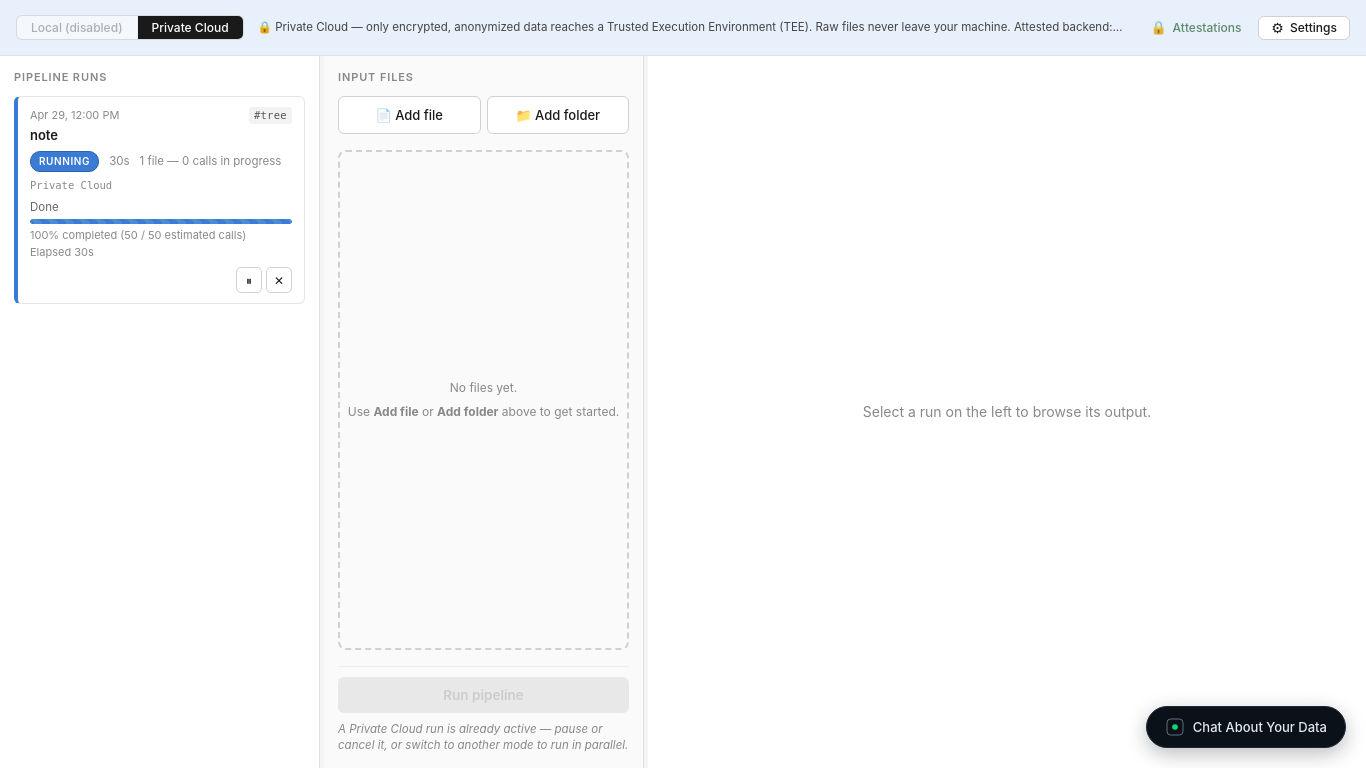
Test case: App — run tree default-open + auto-open new dirs › auto-opens a stage dir that materializes on a refresh
Expected: the text "Pipeline runs" is shown, x1=14 y1=70 x2=107 y2=86
Click the list item "note" at [160, 200], box x1=14 y1=96 x2=305 y2=304
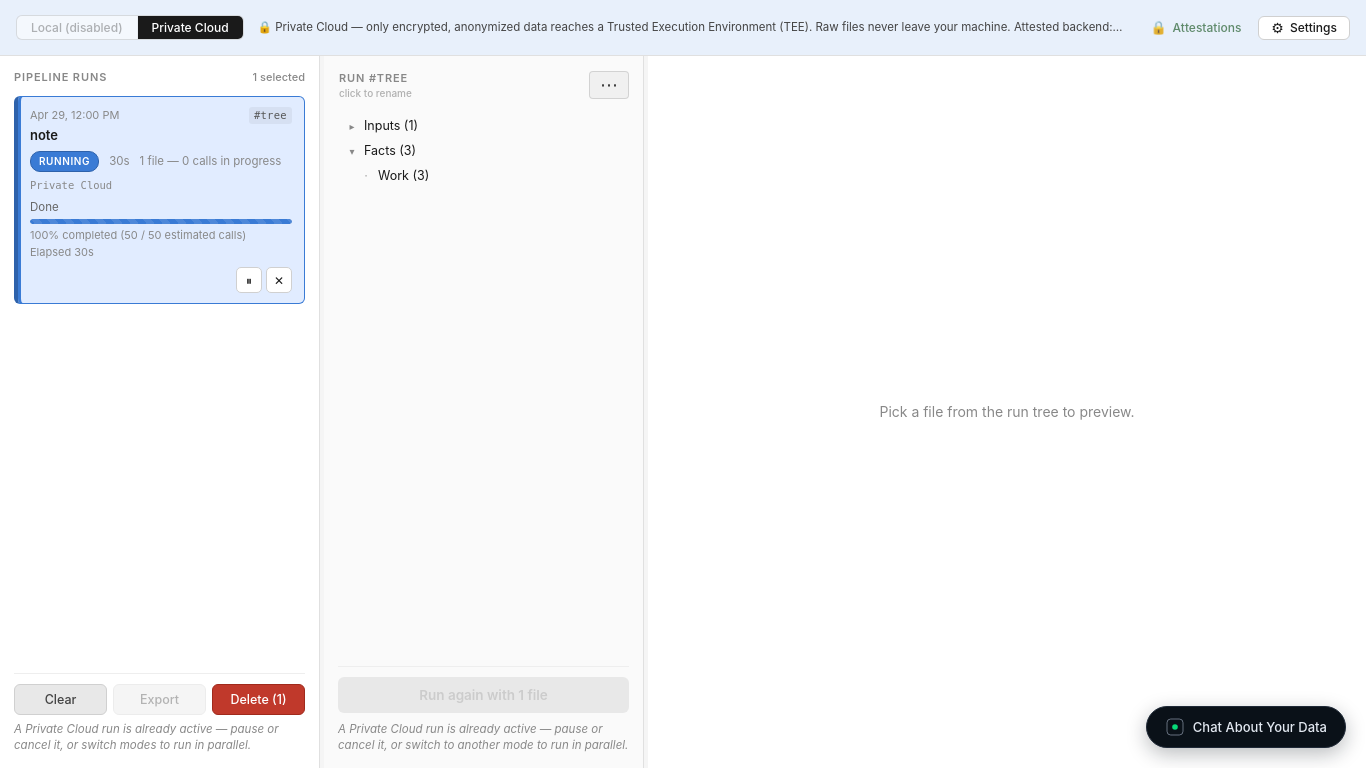
Now the text "Inputs (1)" is shown, box x1=364 y1=118 x2=418 y2=133
Now the text "Work (3)" is shown, box x1=378 y1=168 x2=429 y2=182
